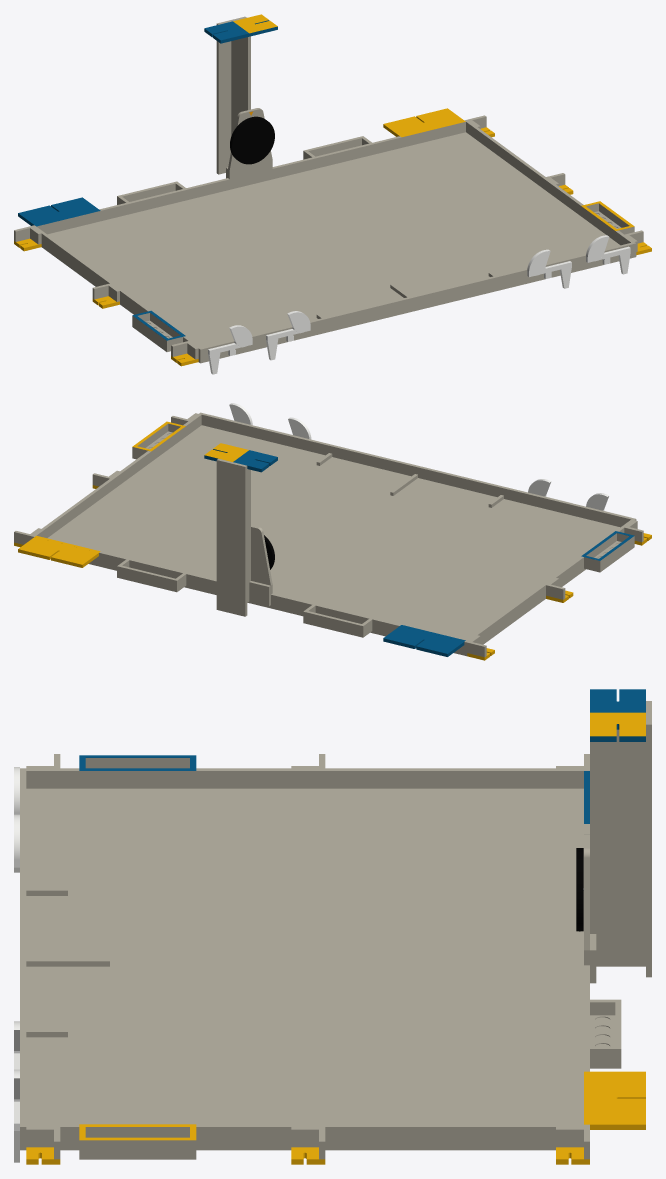
The model's file is Table2020 v1.fbx.
3 views of the same model, one above another, from view 1: azimuth 30°, elevation 25°; view 2: azimuth 150°, elevation 25°; view 3: azimuth 270°, elevation 25° (orthographic). The views are drawn at different scales.
Parts seen in each view (by area): view 1: Body1 (×12), Body3 (×4), Body2 (×2); view 2: Body1 (×12), Body2 (×2); view 3: Body1 (×15), Body2.
Part boxes in pixels (bbox=[...]): Body1 (×12): bbox=[32, 14, 636, 363]; Body3 (×4): bbox=[208, 235, 630, 374]; Body2 (×2): bbox=[18, 108, 463, 225]; Body1 (×12): bbox=[31, 412, 636, 656]; Body2 (×2): bbox=[18, 537, 464, 656]; Body1 (×15): bbox=[20, 689, 651, 1159]; Body2: bbox=[590, 1071, 645, 1129].
Bounding box in the file's own units: 3288 × 1105 × 2288.
